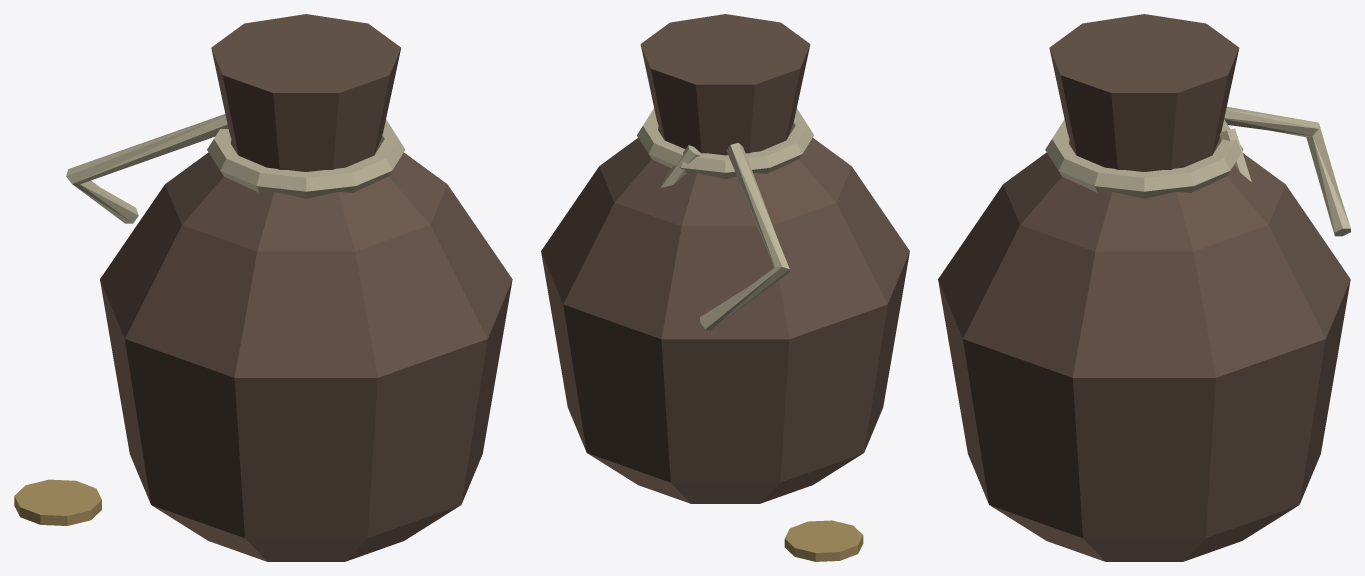
File: SWP_DrawstringPurse.fbx
The picture shows the model from 3 angles, left to right: view 1: azimuth 30°, elevation 25°; view 2: azimuth 150°, elevation 25°; view 3: azimuth 270°, elevation 25°; orthographic projection. The views are drawn at different scales.
Parts seen in each view (by area): view 1: SWP_DrawstringPurse; view 2: SWP_DrawstringPurse; view 3: SWP_DrawstringPurse.
Part boxes in pixels (x1=…): SWP_DrawstringPurse: x1=14, y1=14, x2=512, y2=561; SWP_DrawstringPurse: x1=541, y1=14, x2=909, y2=561; SWP_DrawstringPurse: x1=938, y1=14, x2=1350, y2=561.
Bounding box in the file's own units: 0.1624 × 0.185 × 0.1498.
